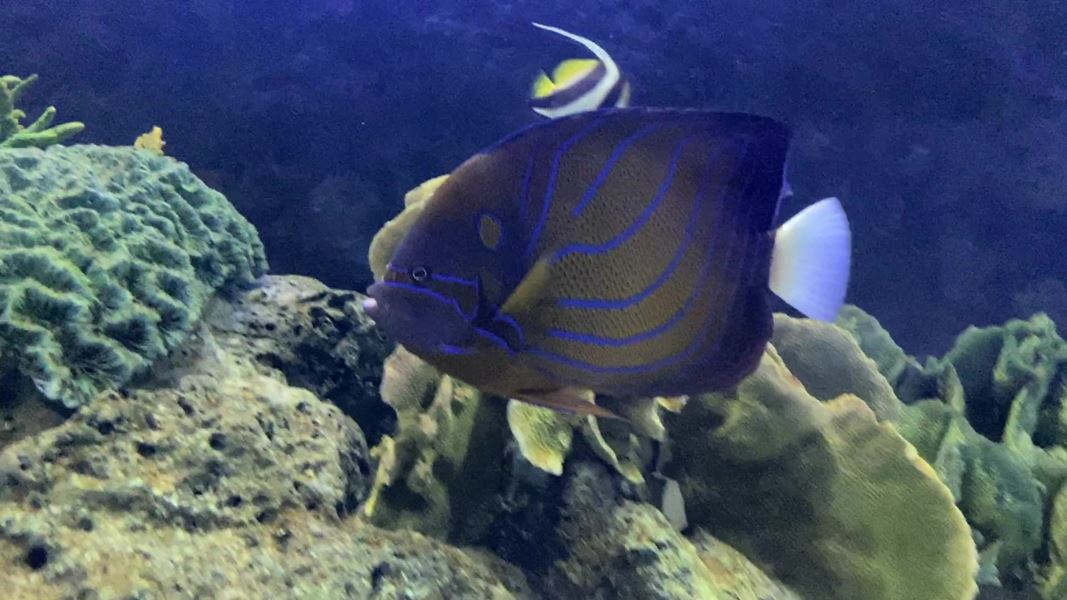Blue ring angelfish: (363, 99, 859, 426)
